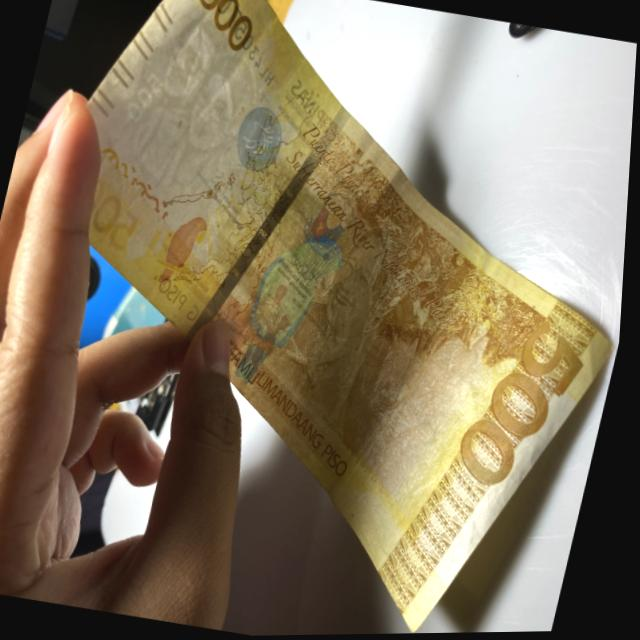500_big_parrot: (236, 214, 359, 391)
500_parrot_watermark: (150, 200, 222, 298)
value_watermark: (121, 65, 168, 128)
watermark: (117, 15, 260, 193)
